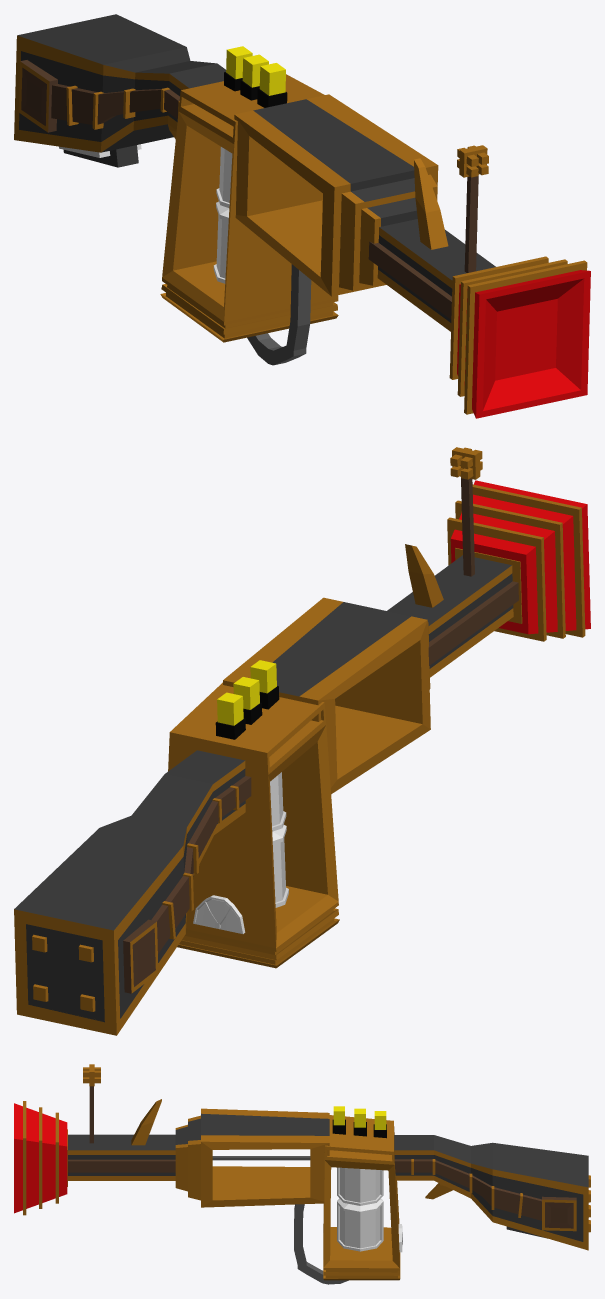
Rendered from arma.fbx.
3 renders of one model, top to bottom at view 1: azimuth 30°, elevation 25°; view 2: azimuth 150°, elevation 25°; view 3: azimuth 270°, elevation 25°, orthographic. The views are drawn at different scales.
Visible parts, largest first — view 1: contenedor 1, Arma, Cube.004, disparador, tubo energia, Modulo disparador, modulo culata medio, mira fija, Modulo disparador.002, Modulo disparador.001, Palo mira, Muni 1.005 (+5 smaller); view 2: Arma, Cube.004, contenedor 1, disparador, Modulo disparador, Modulo disparador.002, modulo culata medio, Modulo disparador.001, mira fija, Cube.005, Muni 1.003, Palo mira (+4 smaller); view 3: Arma, contenedor 1, Cube.004, disparador, Sphere.001, Sphere.002, modulo culata medio, tubo energia, mira fija, Modulo disparador, Modulo disparador.001, Muni 1.005 (+3 smaller).
Part boxes in pixels (bbox=[...]): contenedor 1: bbox=[234, 94, 438, 296]; Arma: bbox=[14, 14, 495, 331]; Cube.004: bbox=[160, 74, 338, 342]; disparador: bbox=[457, 270, 590, 418]; tubo energia: bbox=[247, 264, 311, 365]; Modulo disparador: bbox=[464, 260, 587, 414]; modulo culata medio: bbox=[18, 60, 57, 132]; mira fija: bbox=[414, 158, 448, 249]; Modulo disparador.002: bbox=[449, 256, 548, 379]; Modulo disparador.001: bbox=[457, 259, 567, 396]; Palo mira: bbox=[464, 175, 478, 272]; Muni 1.005: bbox=[257, 63, 287, 107]; Arma: bbox=[14, 555, 518, 1035]; Cube.004: bbox=[168, 682, 339, 968]; contenedor 1: bbox=[223, 597, 430, 794]; disparador: bbox=[450, 480, 590, 634]; Modulo disparador: bbox=[472, 484, 585, 637]; Modulo disparador.002: bbox=[447, 517, 546, 641]; modulo culata medio: bbox=[123, 919, 158, 993]; Modulo disparador.001: bbox=[455, 500, 565, 638]; mira fija: bbox=[405, 544, 443, 607]; Cube.005: bbox=[193, 895, 245, 933]; Muni 1.003: bbox=[215, 692, 245, 739]; Palo mira: bbox=[461, 478, 474, 576]; Arma: bbox=[68, 1134, 588, 1250]; contenedor 1: bbox=[175, 1108, 329, 1207]; Cube.004: bbox=[323, 1115, 400, 1280]; disparador: bbox=[14, 1103, 67, 1213]; Sphere.001: bbox=[337, 1198, 383, 1251]; Sphere.002: bbox=[337, 1167, 383, 1205]; modulo culata medio: bbox=[542, 1196, 576, 1231]; tubo energia: bbox=[294, 1204, 348, 1284]; mira fija: bbox=[131, 1099, 161, 1145]; Modulo disparador: bbox=[23, 1101, 26, 1215]; Modulo disparador.001: bbox=[39, 1107, 42, 1208]; Muni 1.005: bbox=[332, 1106, 345, 1134].
Bounding box in the file's own units: 70.17 × 196 × 473.
